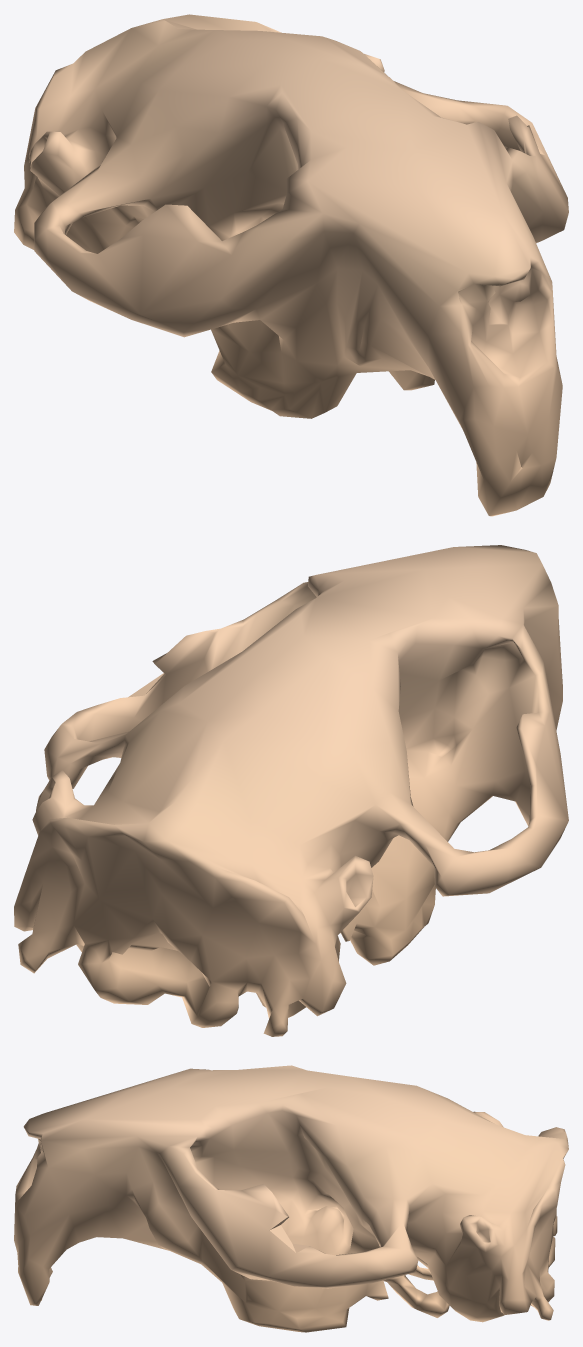
Rendered from Skull7.fbx.
3 renders of one model, top to bottom at view 1: azimuth 30°, elevation 25°; view 2: azimuth 150°, elevation 25°; view 3: azimuth 270°, elevation 25°, orthographic. The views are drawn at different scales.
Parts seen in each view (by area): view 1: 21_beaver; view 2: 21_beaver; view 3: 21_beaver.
Boxes of the visible parts, x1=… form: 21_beaver: x1=14, y1=14, x2=568, y2=516; 21_beaver: x1=14, y1=545, x2=568, y2=1036; 21_beaver: x1=14, y1=1065, x2=568, y2=1332.
Size of the model in its own units: 57.19 by 35.72 by 78.87.
